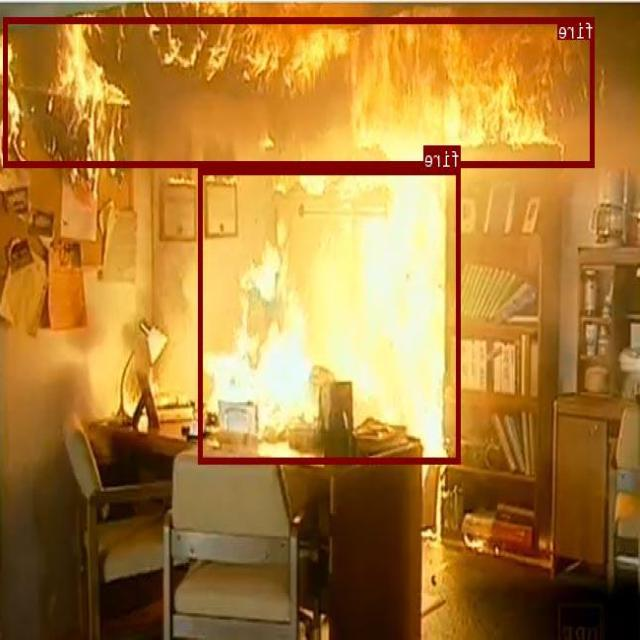fire: (4, 17, 596, 166), (199, 168, 462, 462)
